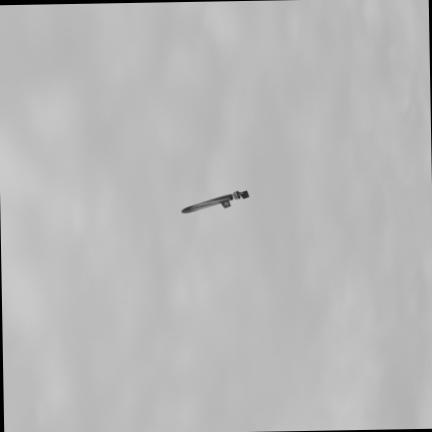Shahed: (181, 190, 248, 212)
